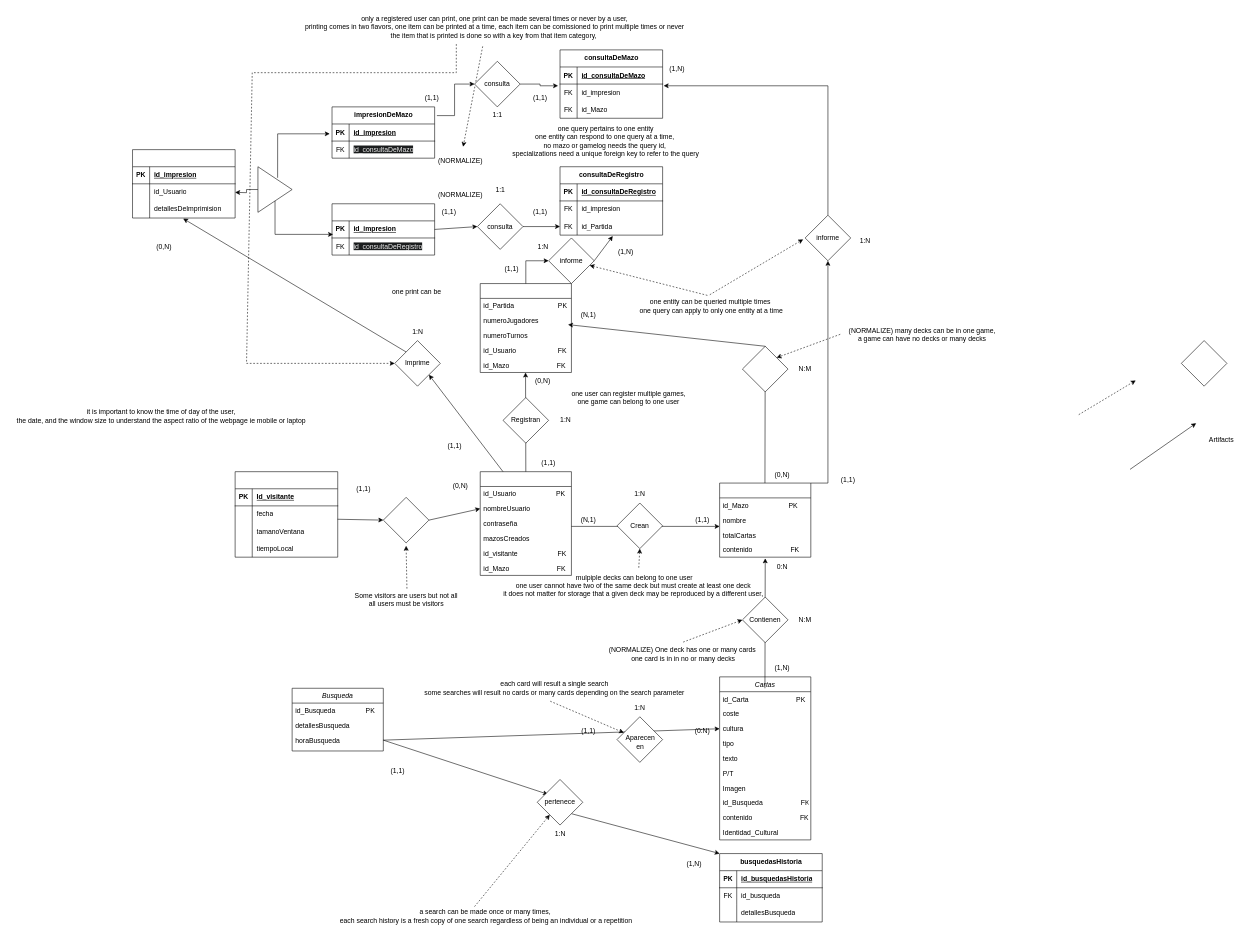
Image size: 1251x937. Some labels were removed from this diagram. The box of each missing label's shape, as (x1, y1, x2, y2) in pixels:
impresionDeRegistro: (331, 203, 435, 255)
Impresiones: (132, 149, 235, 218)
Mazos: (719, 483, 811, 557)
RegistroPartida: (480, 283, 571, 372)
se registra: (383, 497, 429, 543)
son guardados en: (742, 346, 788, 392)
Usuarios: (480, 471, 571, 575)
Visitantes: (235, 471, 338, 557)
